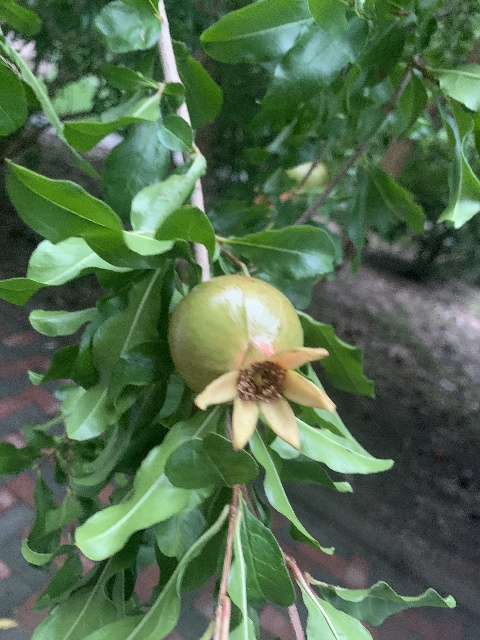mid-growth: (166, 274, 336, 452)
